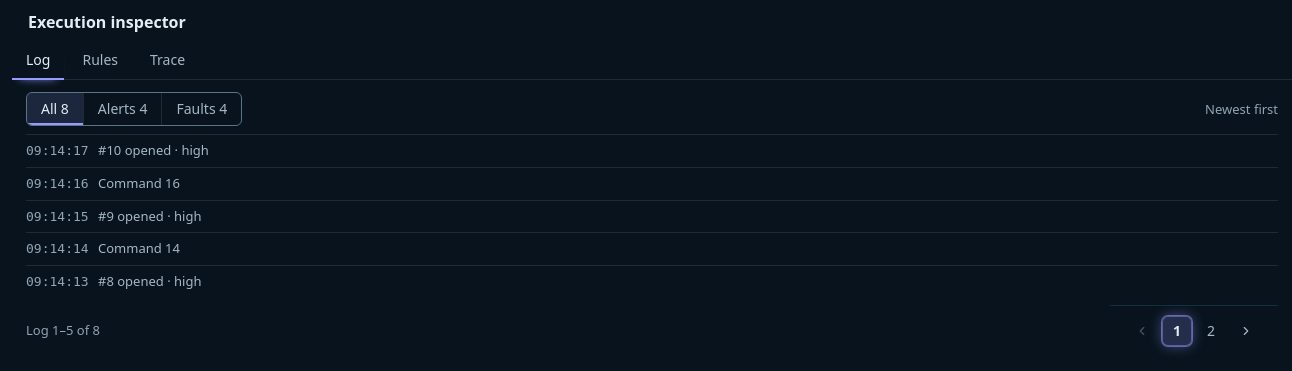
Inspector: the log › pages the log and says which rows are on show
Expected: the text "Log 1–5 of 8" is shown, [26,321,100,340]
Expected: the number of list items is 5, [26,134,1278,167]; [26,167,1278,200]; [26,200,1278,232]; [26,232,1278,265]; [26,265,1278,297]
Click the button "2" at [1211, 331], box [1196,316,1226,346]
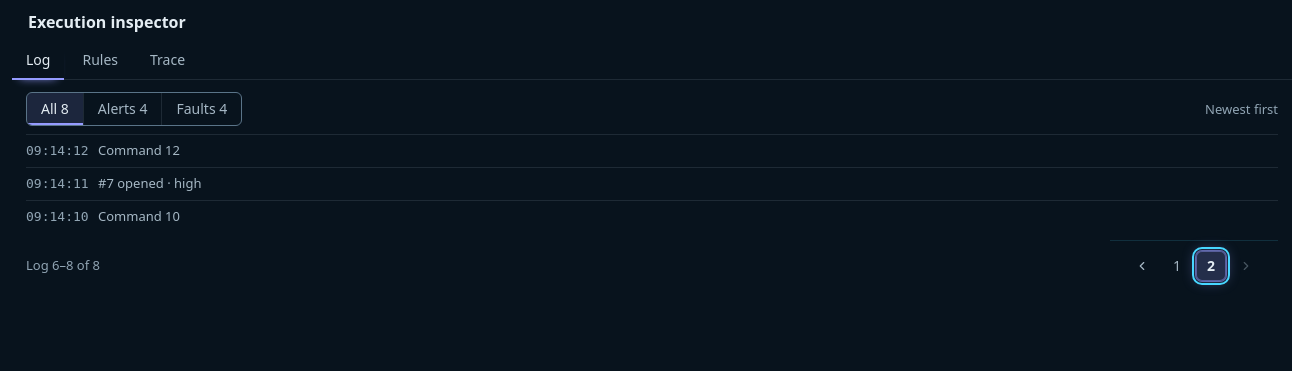
Result: the text "Log 6–8 of 8" is shown at [26,256,100,275]
Result: the number of list items is 3 at [26,134,1278,167]; [26,167,1278,200]; [26,200,1278,232]
